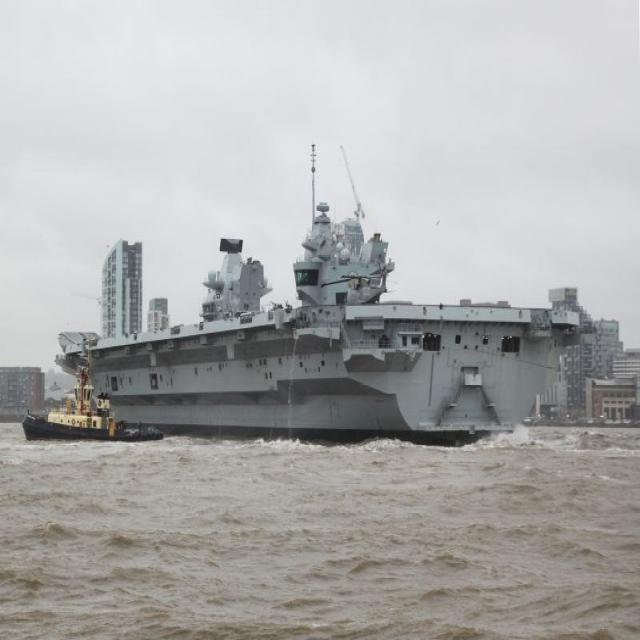Portanaves: (50, 192, 585, 449)
